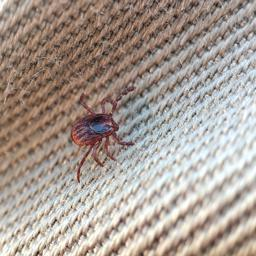Rhipicephalus sanguineus: (66, 93, 136, 184)
